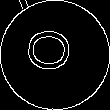O_E: (29, 32, 81, 78)
